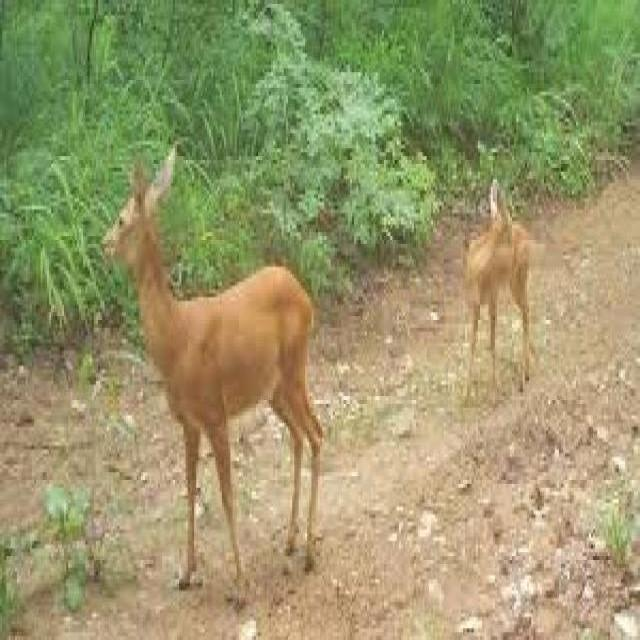deer: (96, 134, 324, 618), (443, 178, 538, 402)
